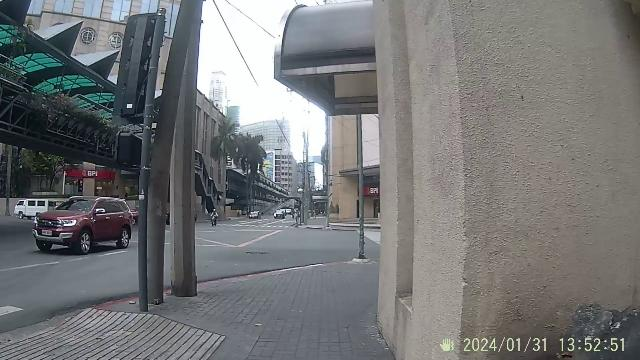car: (34, 188, 132, 256)
utility_post: (151, 0, 201, 298)
